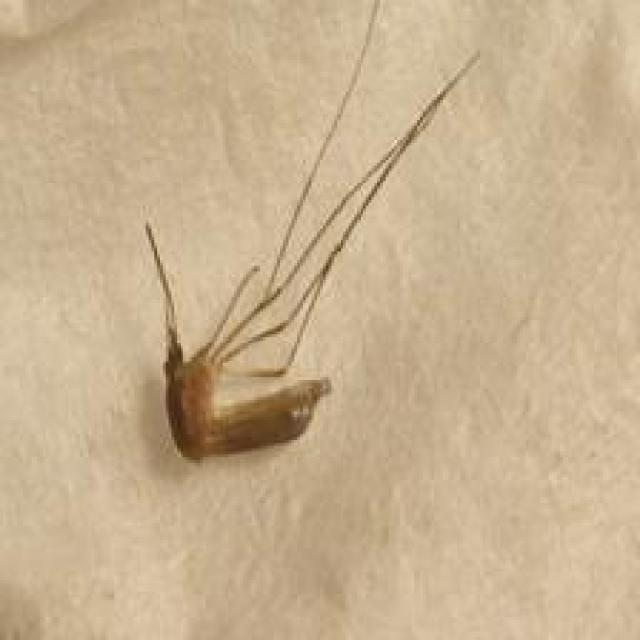Culex: (140, 0, 480, 463)
